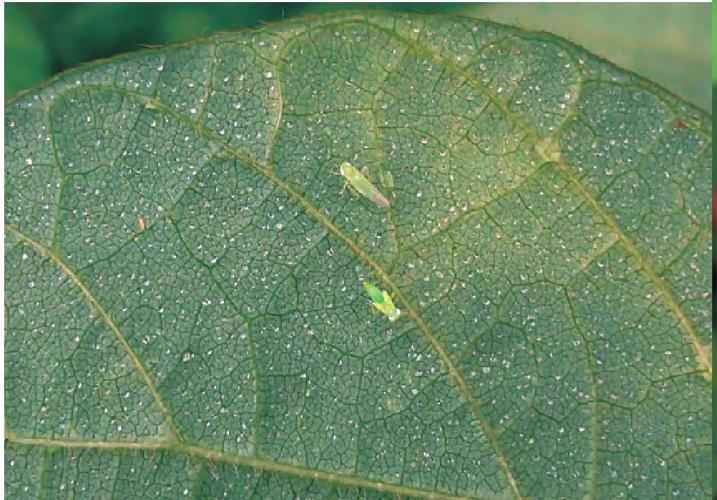Cicadellidae: (332, 161, 389, 207), (363, 279, 400, 323)
